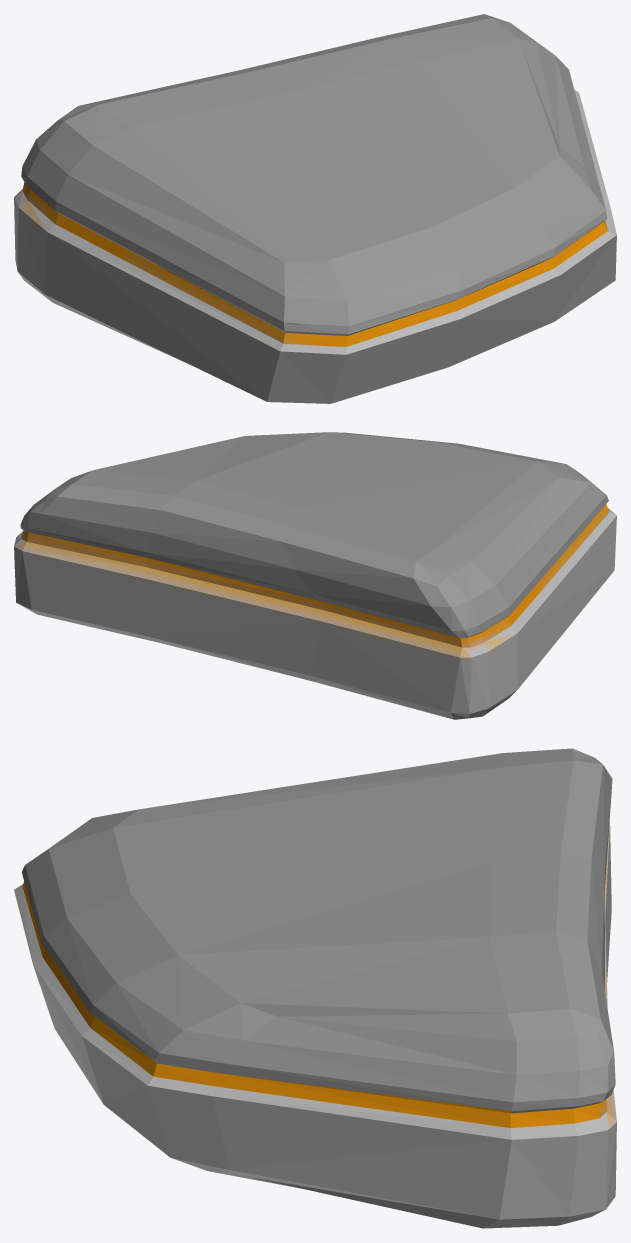
File: LeftToe.obj
The picture shows the model from 3 angles, top to bottom: view 1: azimuth 30°, elevation 25°; view 2: azimuth 150°, elevation 25°; view 3: azimuth 270°, elevation 25°; orthographic projection. The views are drawn at different scales.
Visible parts, largest first — view 1: LeftToe_Mesh.027; view 2: LeftToe_Mesh.027; view 3: LeftToe_Mesh.027.
Boxes of the visible parts, x1,y1,x2,y2 form: LeftToe_Mesh.027: [14, 14, 616, 403]; LeftToe_Mesh.027: [14, 432, 616, 719]; LeftToe_Mesh.027: [14, 748, 616, 1228].
Size of the model in its own units: 0.0943 by 0.0269 by 0.0725.
Materials: 1 (1 with a texture image).
